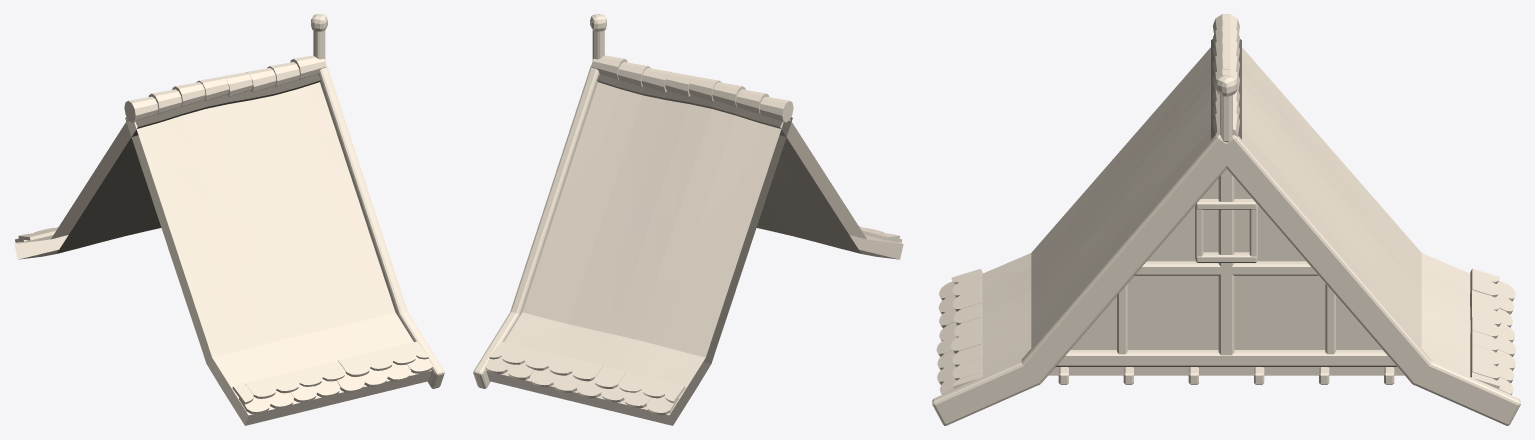
Rendered from SM_VK_Roof_Gable.fbx.
3 views of the same model, side by side, from view 1: azimuth 30°, elevation 25°; view 2: azimuth 150°, elevation 25°; view 3: azimuth 270°, elevation 25° (orthographic). The views are drawn at different scales.
Visible parts, largest first — view 1: SM_VK_Roof_Gable.001; view 2: SM_VK_Roof_Gable.001; view 3: SM_VK_Roof_Gable.001.
Part boxes in pixels (left/top/right/bottom): SM_VK_Roof_Gable.001: left=14, top=14, right=444, bottom=425; SM_VK_Roof_Gable.001: left=473, top=14, right=903, bottom=425; SM_VK_Roof_Gable.001: left=932, top=14, right=1520, bottom=425.
Size of the model in its own units: 4.23 by 5.89 by 9.04.
